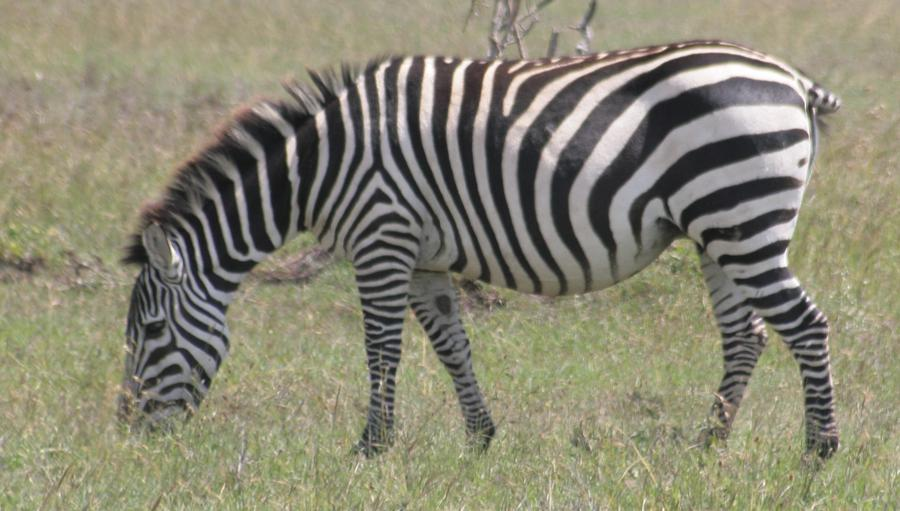zebra_plains: (316, 38, 813, 290)
